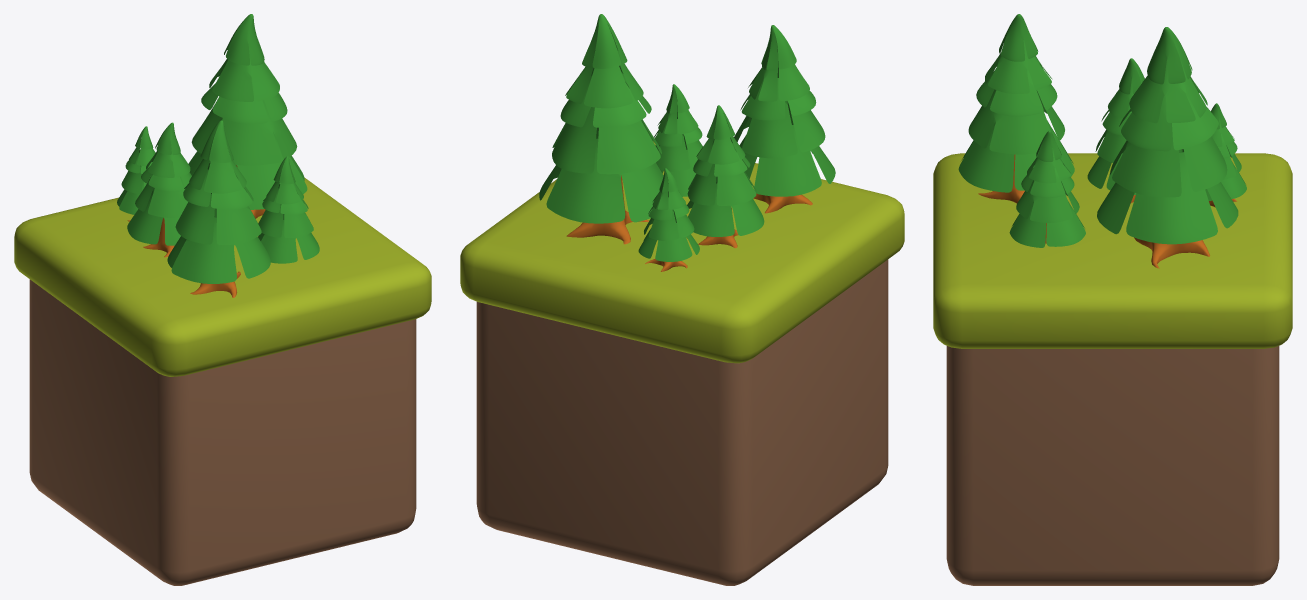
3 views of the same model, side by side, from view 1: azimuth 30°, elevation 25°; view 2: azimuth 150°, elevation 25°; view 3: azimuth 270°, elevation 25° (orthographic). The views are drawn at different scales.
Parts seen in each view (by area): view 1: Cube.044, Cube.045, Cube.096; view 2: Cube.044, Cube.045, Cube.096; view 3: Cube.044, Cube.045, Cube.096.
Part boxes in pixels (box(x1,y1,x2,y2)): Cube.044: box(29, 279, 416, 585); Cube.045: box(14, 177, 431, 376); Cube.096: box(117, 14, 319, 297); Cube.044: box(476, 259, 888, 585); Cube.045: box(460, 141, 904, 363); Cube.096: box(539, 14, 835, 271); Cube.044: box(946, 346, 1279, 585); Cube.045: box(933, 153, 1292, 348); Cube.096: box(958, 14, 1246, 268).
Size of the model in its own units: 216 by 349 by 216.
